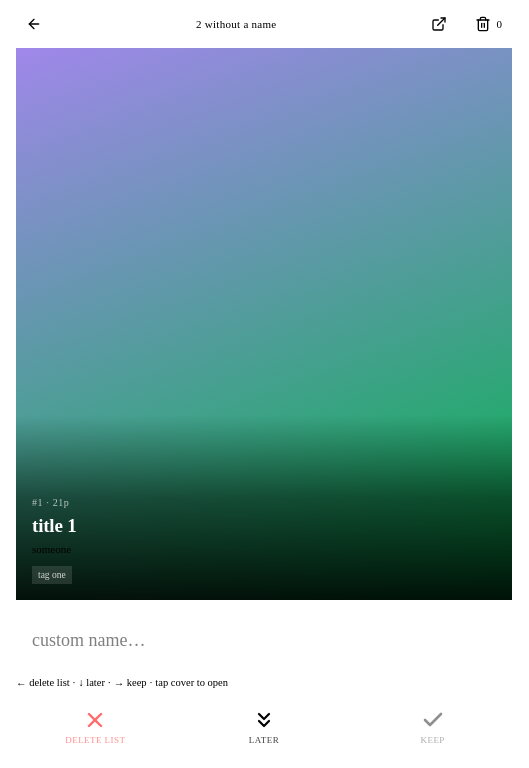
Test: SwipeDeck › sends a title to the deletion list without deleting anything
Click the button "delete list". click: {"x": 95, "y": 728}
box: [16,700,175,756]
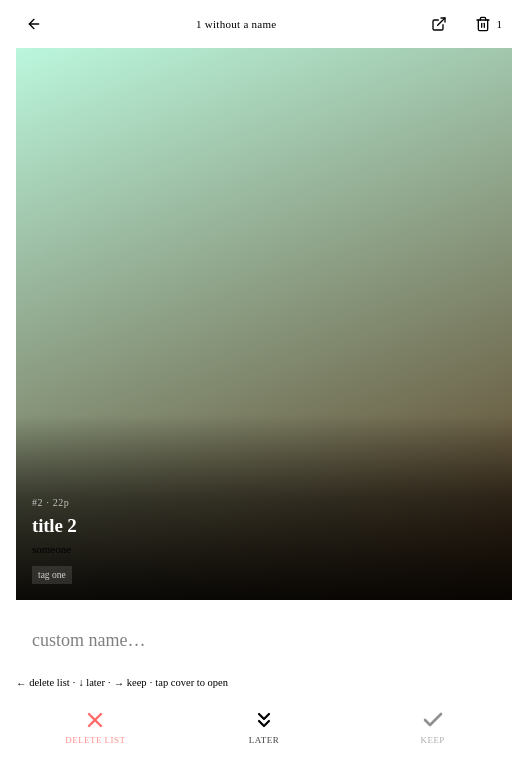
expect the button named "deletion list, 1 title" is shown: met, box [464,6,512,42]
